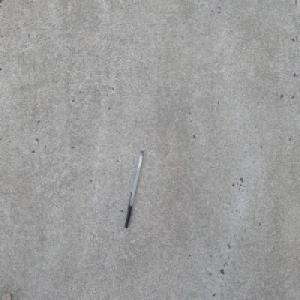Pen: (124, 149, 144, 228)
